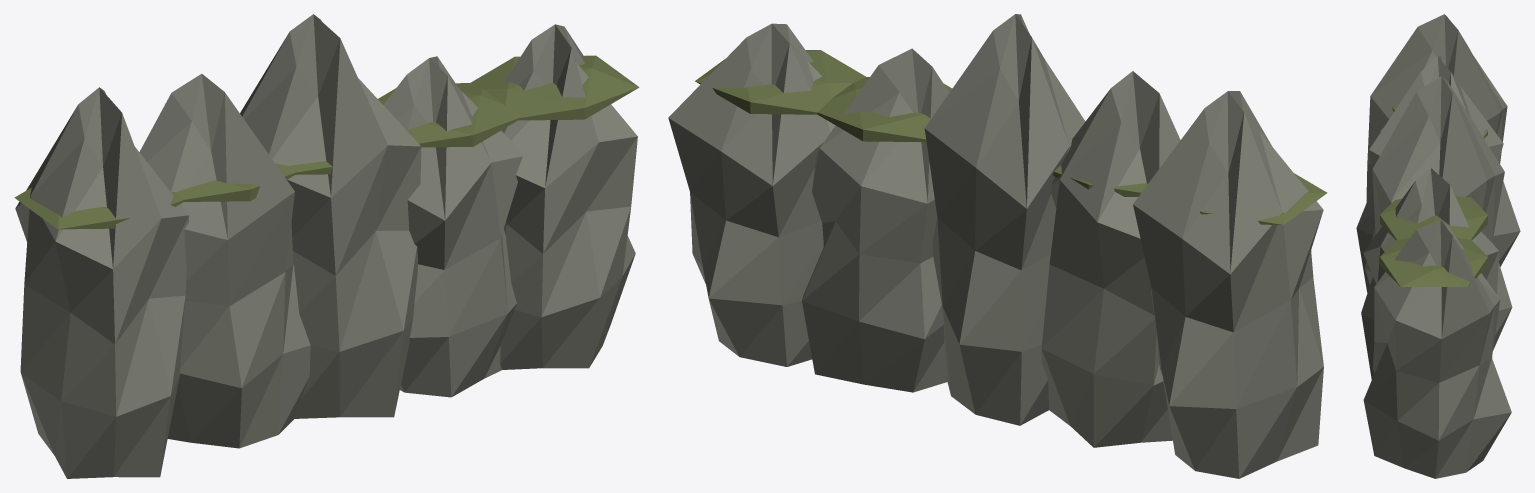
File: cliff_edge.glb
The picture shows the model from 3 angles, left to right: view 1: azimuth 30°, elevation 25°; view 2: azimuth 150°, elevation 25°; view 3: azimuth 270°, elevation 25°; orthographic projection. The views are drawn at different scales.
Parts seen in each view (by area): view 1: world-scenery/cliff_edge; view 2: world-scenery/cliff_edge; view 3: world-scenery/cliff_edge.
Boxes of the visible parts, <box> form: world-scenery/cliff_edge: <box>14,14,639,478</box>; world-scenery/cliff_edge: <box>668,14,1327,478</box>; world-scenery/cliff_edge: <box>1356,14,1520,478</box>.
Bounding box in the file's own units: 6.8 × 4.06 × 2.07.
